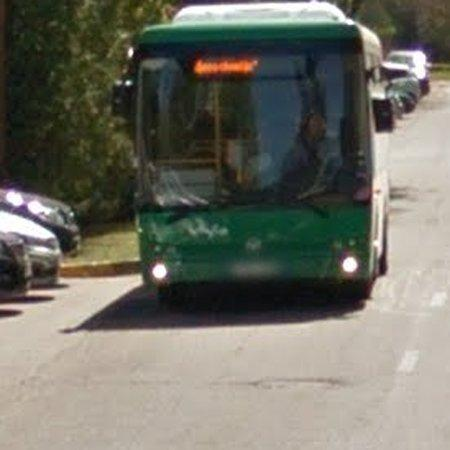buses: (137, 2, 389, 296)
